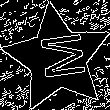M_W: (29, 32, 86, 84)
